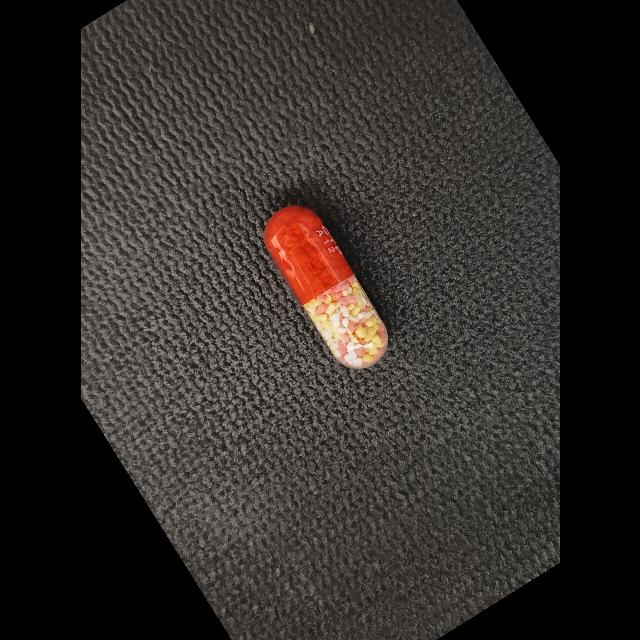Intact Capsule: (263, 205, 388, 368)
